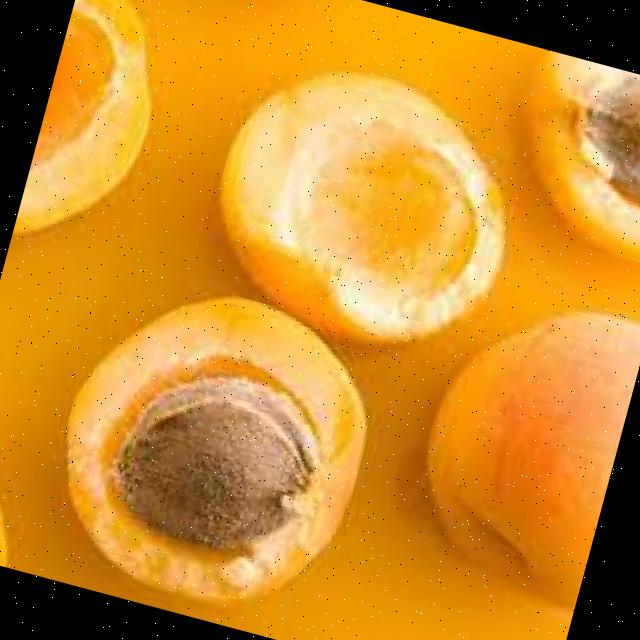Cekirdek: (114, 373, 314, 550)
Kayisi: (221, 73, 502, 340)
